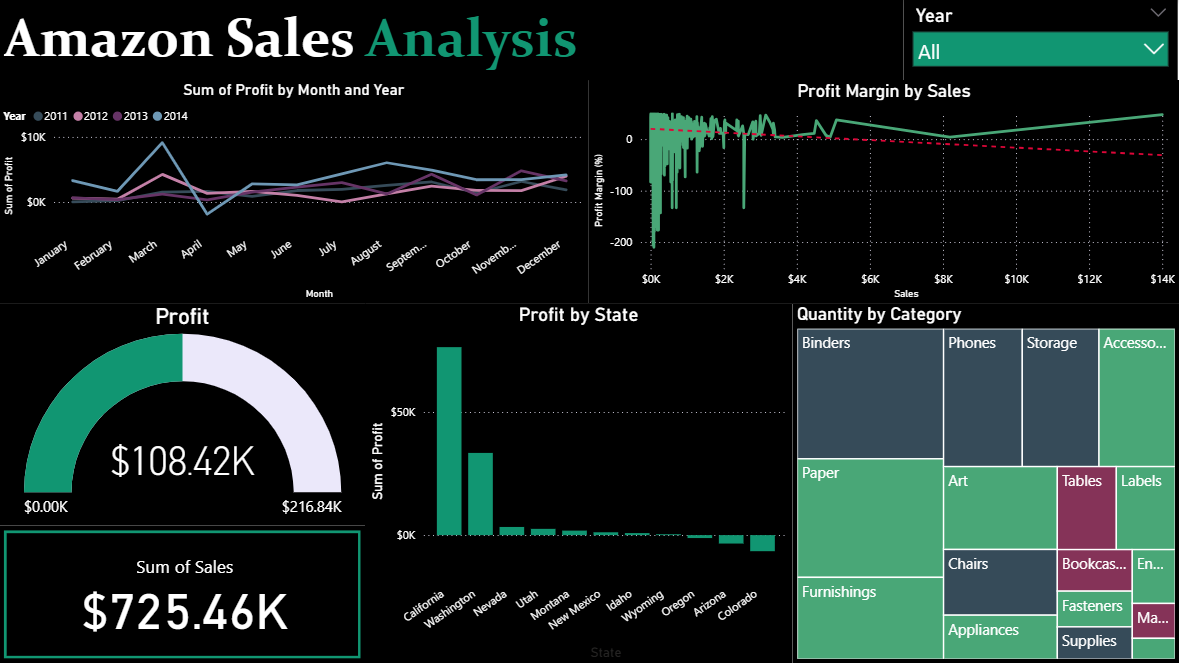

What the dashboard file says about the page in this screenshot:
{"tool":"powerbi","page":{"name":"Summary","canvas":[1280,720],"ordinal":0},"visuals":[{"type":"textbox","box":[0,0,980.6,87.8],"z":0},{"type":"cardVisual","fields":{"Data":["Sum(Walmart.Sales)"]},"box":[0,570.7,397.5,149.5],"z":1000},{"type":"treemap","title":"Quantity by Category","fields":{"Group":["Walmart.Category"],"Values":["Sum(Walmart.Quantity)"]},"box":[860.4,330.2,419.6,390.4],"z":2000},{"type":"lineStackedColumnComboChart","title":"Profit by State","fields":{"Category":["Walmart.State"],"Y":["Sum(Walmart.Profit)"]},"box":[397.5,330,463.1,390.2],"z":3000},{"type":"gauge","title":"Profit","fields":{"Y":["Sum(Walmart.Profit)"]},"box":[0,330,397.5,240.7],"z":5000},{"type":"slicer","fields":{"Values":["Walmart.Order Date.Variation.Date Hierarchy.Year","Walmart.Order Date.Variation.Date Hierarchy.Quarter","Walmart.Order Date.Variation.Date Hierarchy.Month"]},"box":[980.8,0,297.7,87.8],"z":6000},{"type":"lineChart","title":"Profit Margin by Sales","fields":{"Category":["Walmart.Sales"],"Y":["Avg(Walmart.Profit Margin)"]},"box":[639.2,87.8,640.9,242.4],"z":7000},{"type":"lineChart","fields":{"Category":["Walmart.Order Date.Variation.Date Hierarchy.Month"],"Series":["Walmart.Order Date.Variation.Date Hierarchy.Year"],"Y":["Sum(Walmart.Profit)"]},"box":[0,87.8,639.2,242.4],"z":7001}]}

Visuals, with their boxes in screenshot pixels (x1, y1, x2, y2), scaled from the page's 1280x720 canvas onto the 1179x663 screenshot:
textbox: {"left": 0, "top": 0, "right": 903, "bottom": 81}
cardVisual - Sum(Walmart.Sales): {"left": 0, "top": 526, "right": 366, "bottom": 662}
"Quantity by Category" treemap: {"left": 793, "top": 304, "right": 1178, "bottom": 662}
"Profit by State" lineStackedColumnComboChart: {"left": 366, "top": 304, "right": 793, "bottom": 662}
"Profit" gauge: {"left": 0, "top": 304, "right": 366, "bottom": 526}
slicer - Walmart.Order Date.Variation.Date Hierarchy.Year x Walmart.Order Date.Variation.Date Hierarchy.Quarter: {"left": 903, "top": 0, "right": 1178, "bottom": 81}
"Profit Margin by Sales" lineChart: {"left": 589, "top": 81, "right": 1178, "bottom": 304}
lineChart - Walmart.Order Date.Variation.Date Hierarchy.Month x Walmart.Order Date.Variation.Date Hierarchy.Year: {"left": 0, "top": 81, "right": 589, "bottom": 304}
